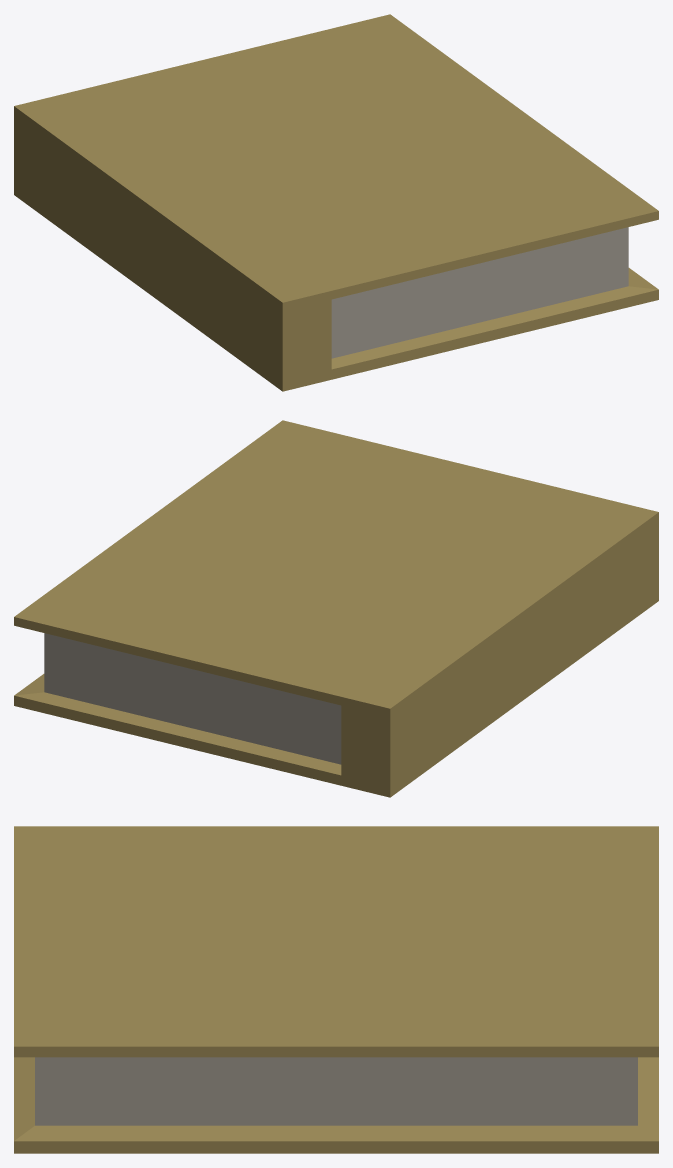
File: horizontal book 1.fbx
3 views of the same model, one above another, from view 1: azimuth 30°, elevation 25°; view 2: azimuth 150°, elevation 25°; view 3: azimuth 270°, elevation 25° (orthographic). The views are drawn at different scales.
Parts seen in each view (by area): view 1: horizontal_book; view 2: horizontal_book; view 3: horizontal_book.
Boxes of the visible parts, box(x1,y1,x2,y2) form: horizontal_book: box(14, 14, 658, 391); horizontal_book: box(14, 420, 658, 797); horizontal_book: box(14, 826, 658, 1153).
Size of the model in its own units: 1.65 by 0.3735 by 2.05.
